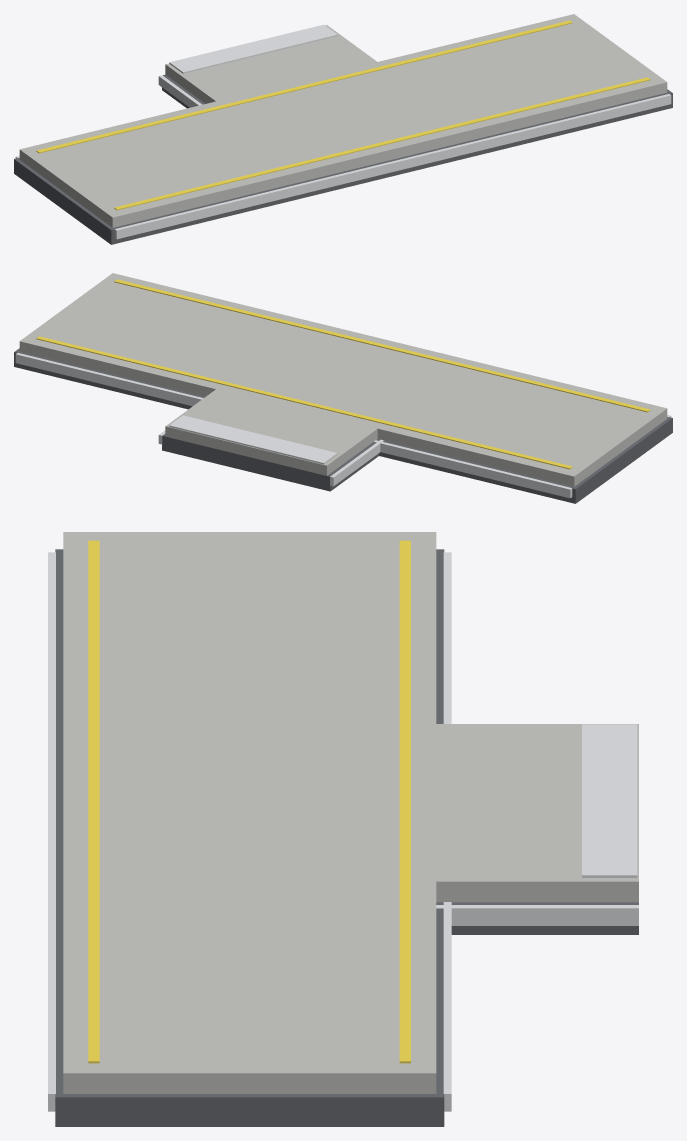
The model's file is marina-and-yacht-club-marina-and-yacht-club-pontoon-mo-0c15c4a9__38282.glb.
3 renders of one model, top to bottom at view 1: azimuth 30°, elevation 25°; view 2: azimuth 150°, elevation 25°; view 3: azimuth 270°, elevation 25°, orthographic. The views are drawn at different scales.
Visible parts, largest first — view 1: marina-and-yacht-club-pontoon-module-tee; view 2: marina-and-yacht-club-pontoon-module-tee; view 3: marina-and-yacht-club-pontoon-module-tee.
Boxes of the visible parts, left/top/right/bottom form: marina-and-yacht-club-pontoon-module-tee: left=14, top=14, right=672, bottom=244; marina-and-yacht-club-pontoon-module-tee: left=14, top=273, right=672, bottom=503; marina-and-yacht-club-pontoon-module-tee: left=48, top=532, right=638, bottom=1126.
Bounding box in the file's own units: 8 × 0.3601 × 3.65.
